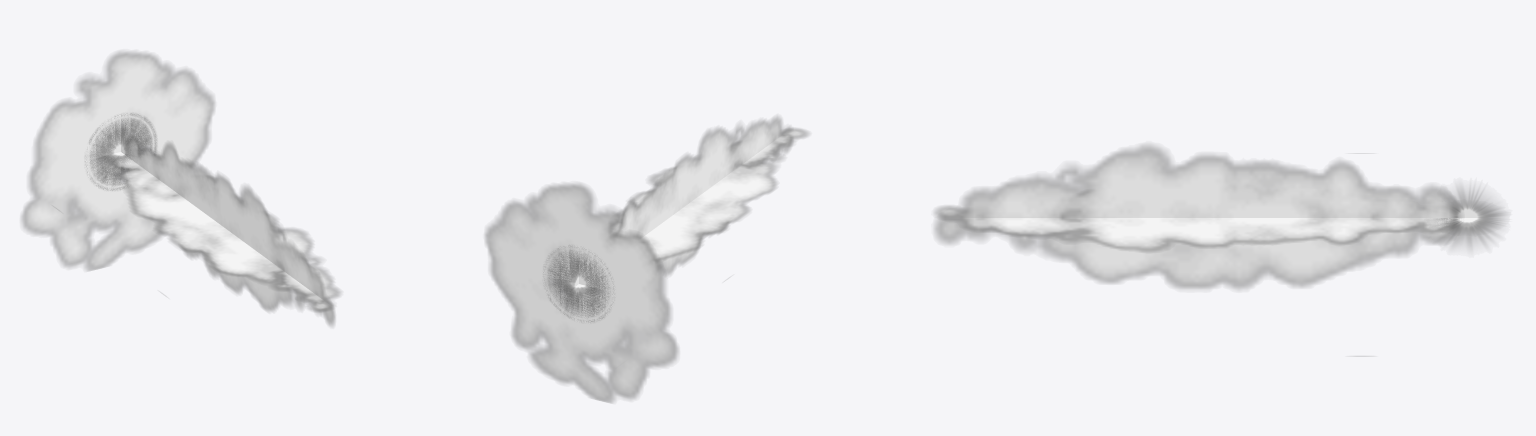
File: si_eam_0100.glb
3 renders of one model, left to right at view 1: azimuth 30°, elevation 25°; view 2: azimuth 150°, elevation 25°; view 3: azimuth 270°, elevation 25°, orthographic. The views are drawn at different scales.
Visible parts, largest first — view 1: layer_03_si_est_0005, layer_02_si_est_0005, layer_04_si_est_0404, layer_00_si_est_0003, layer_01_si_est_0004; view 2: layer_03_si_est_0005, layer_02_si_est_0005, layer_00_si_est_0003, layer_01_si_est_0004, layer_04_si_est_0404; view 3: layer_02_si_est_0005, layer_00_si_est_0003.
Part boxes in pixels (x1=…): layer_03_si_est_0005: x1=21, y1=52, x2=214, y2=270; layer_02_si_est_0005: x1=56, y1=135, x2=340, y2=325; layer_04_si_est_0404: x1=85, y1=113, x2=156, y2=190; layer_00_si_est_0003: x1=95, y1=125, x2=144, y2=176; layer_01_si_est_0004: x1=92, y1=120, x2=148, y2=184; layer_03_si_est_0005: x1=485, y1=184, x2=678, y2=402; layer_02_si_est_0005: x1=609, y1=116, x2=808, y2=278; layer_00_si_est_0003: x1=551, y1=258, x2=603, y2=311; layer_01_si_est_0004: x1=551, y1=251, x2=605, y2=311; layer_04_si_est_0404: x1=543, y1=246, x2=613, y2=321; layer_02_si_est_0005: x1=934, y1=145, x2=1460, y2=356; layer_00_si_est_0003: x1=1435, y1=186, x2=1505, y2=248.
Size of the model in its own units: 20 by 20 by 38.5.
Materials: 4 (4 with a texture image).
